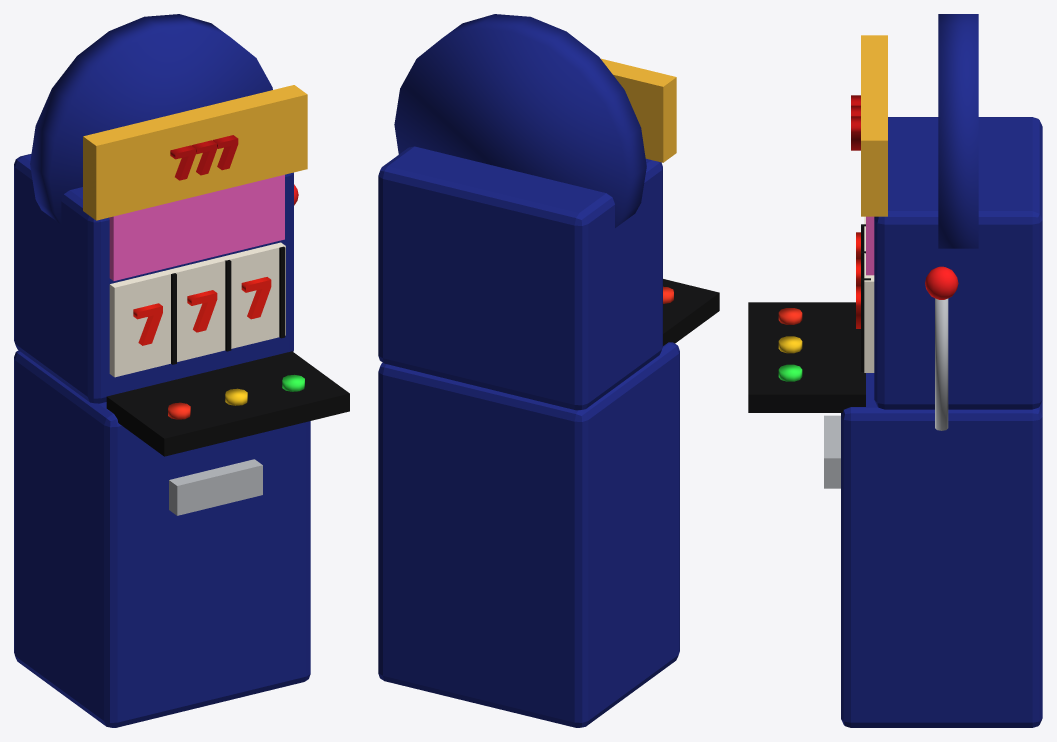
Rendered from slot_machine_b.glb.
3 renders of one model, left to right at view 1: azimuth 30°, elevation 25°; view 2: azimuth 150°, elevation 25°; view 3: azimuth 270°, elevation 25°, orthographic.
Parts seen in each view (by area): view 1: slot_machine_b; view 2: slot_machine_b; view 3: slot_machine_b.
Part boxes in pixels (<box>): slot_machine_b: <box>14,14,349,727</box>; slot_machine_b: <box>378,14,719,727</box>; slot_machine_b: <box>748,14,1042,727</box>.
Bounding box in the file's own units: 0.87 × 2.15 × 0.875.
1 material, 1 textured.
